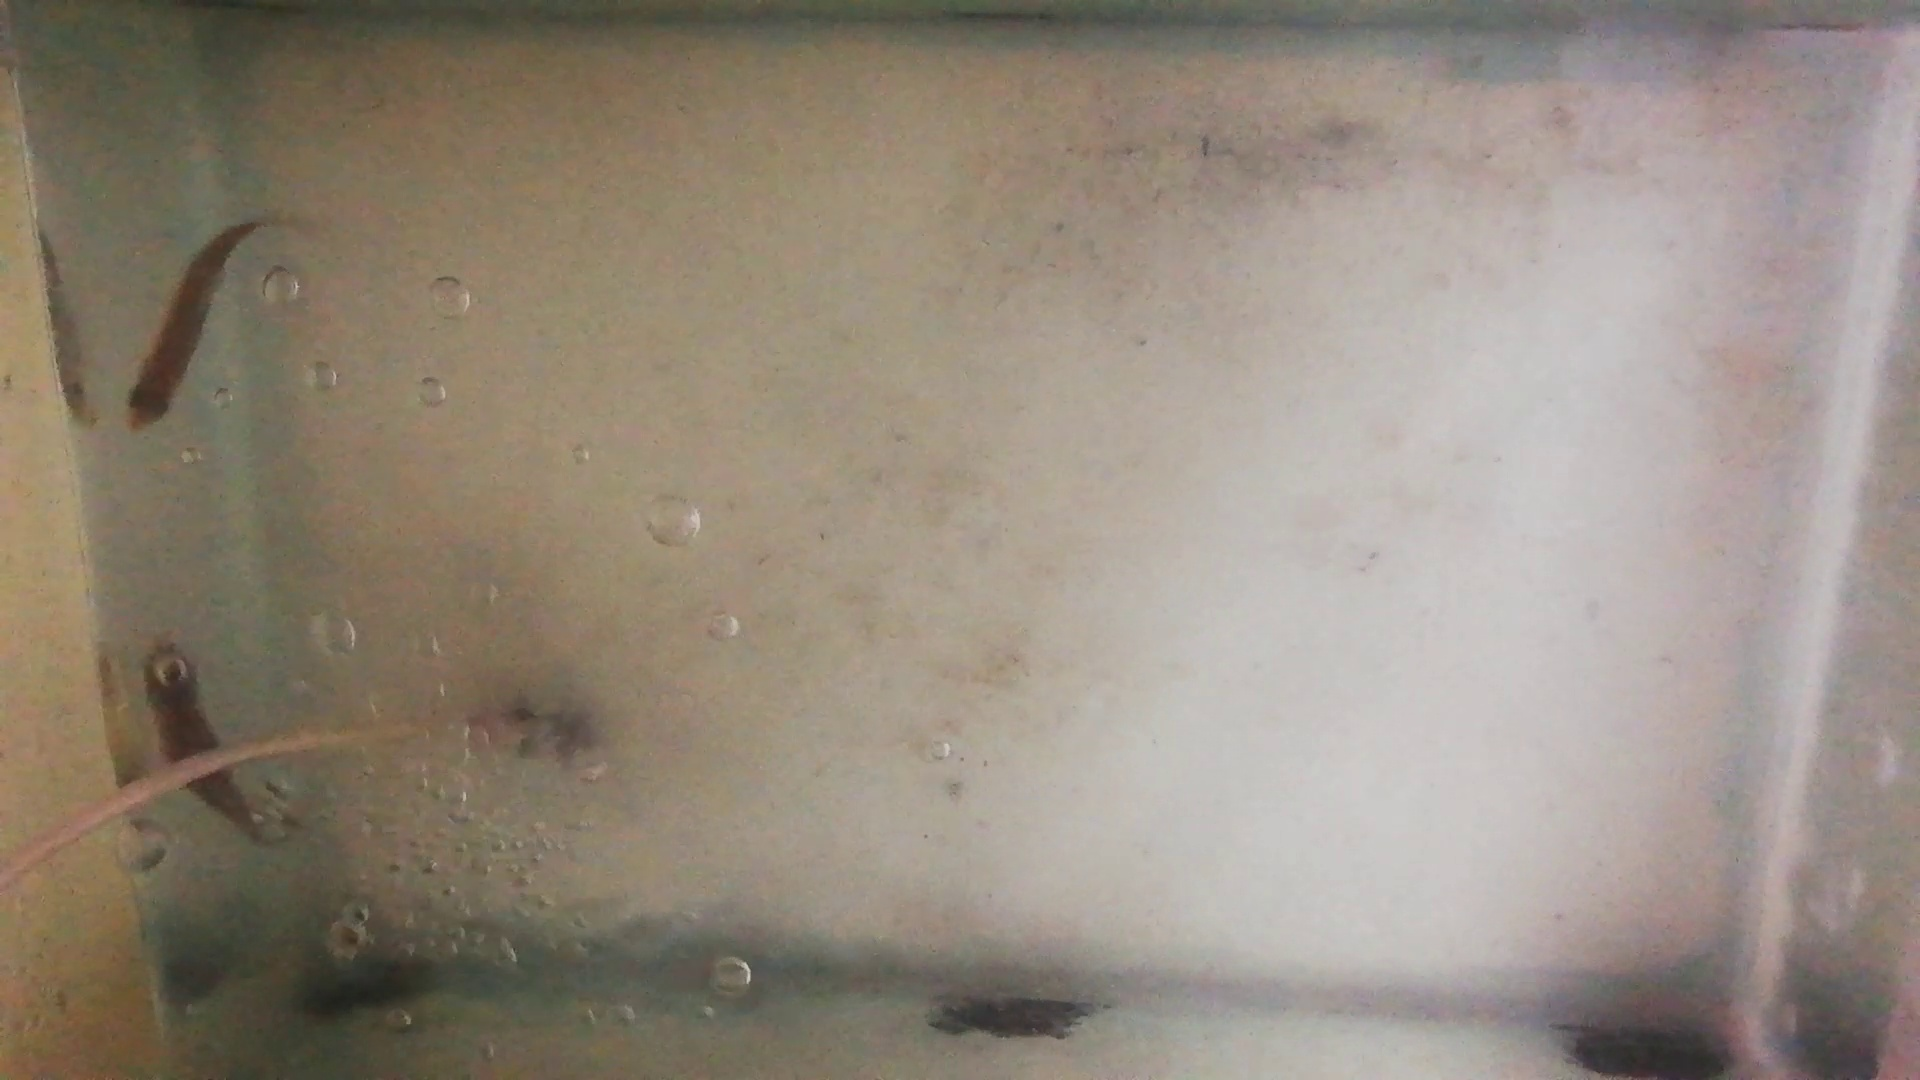fish: (123, 219, 262, 435), (142, 636, 262, 836)
